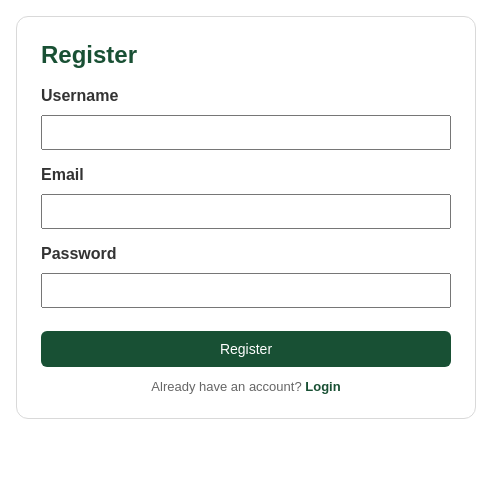
Test: Register › shows success message and clears form on successful registration
The width and height of the screenshot is (493, 480).
Type "TEST" into the field named "username" below "Username" at (246, 132), box x1=41 y1=115 x2=451 y2=150
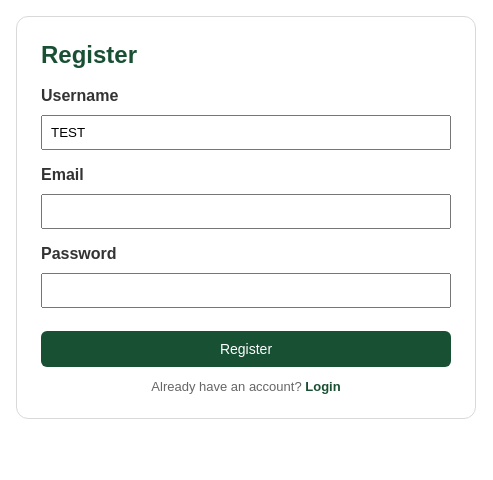
Type "test@example.com" into the field named "email" below "Email" at (246, 212), box x1=41 y1=194 x2=451 y2=229
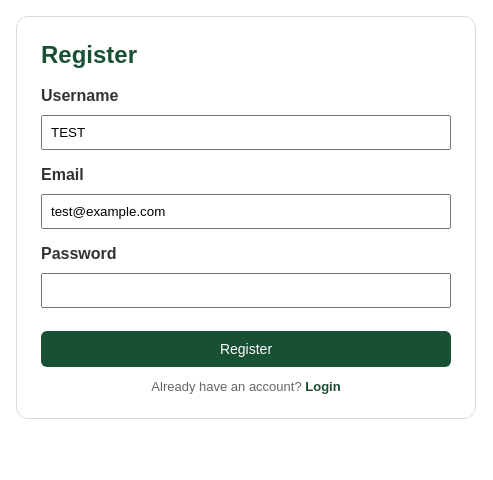
Type "123456" into the password field named "password" at (246, 290), box x1=41 y1=273 x2=451 y2=308
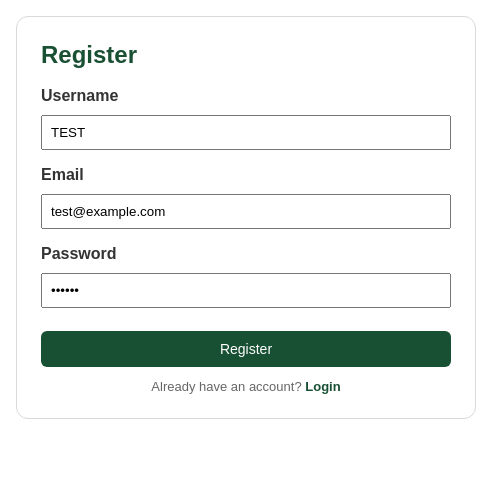
Click the button "Register" at (246, 349), box x1=41 y1=331 x2=451 y2=367
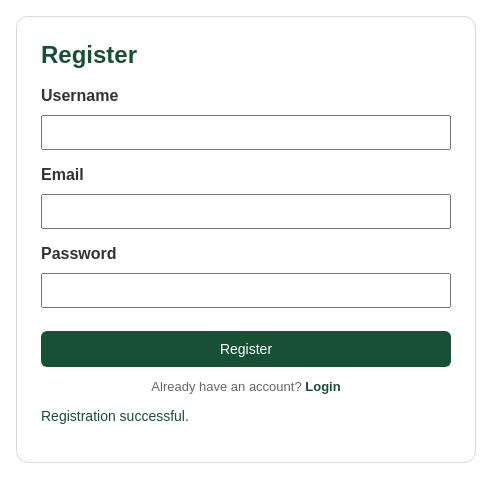
Result: the text "Registration successful." is shown at x1=41 y1=408 x2=189 y2=424
Result: the field named "username" below "Username" is empty at x1=41 y1=115 x2=451 y2=150
Result: the field named "email" below "Email" is empty at x1=41 y1=194 x2=451 y2=229
